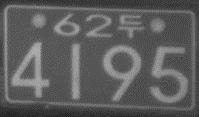1: (59, 43, 92, 101)
2: (84, 12, 113, 38)
4: (12, 42, 49, 99)
5: (148, 46, 189, 103)
6: (53, 12, 81, 37)
9: (103, 43, 142, 102)
두: (118, 14, 144, 38)
